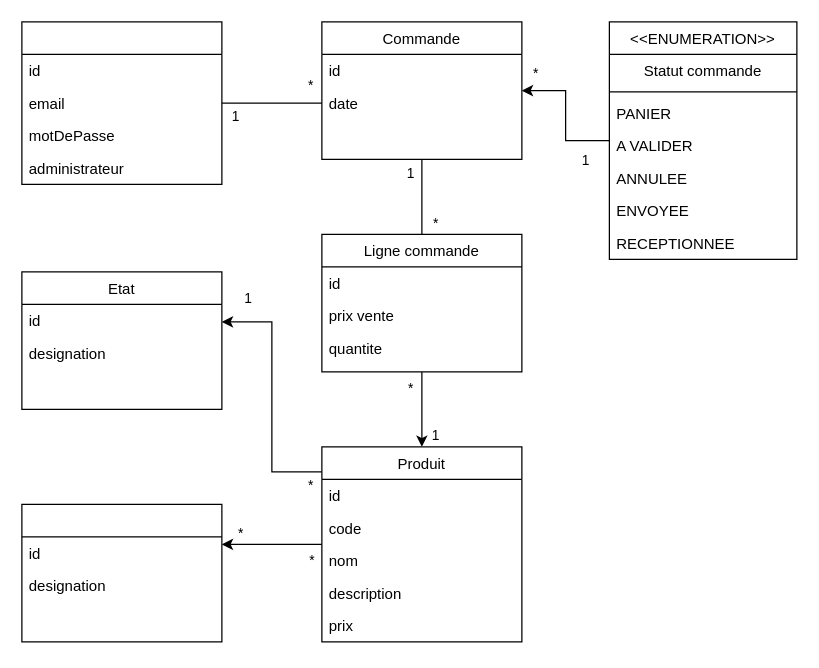
Image size: 819x668. Some labels were removed from this diagram. The box of each missing label's shape, as (x1, y1, x2, y2) in pixels:
Etiquette: (21, 503, 222, 642)
Utilisateur: (21, 21, 222, 184)
